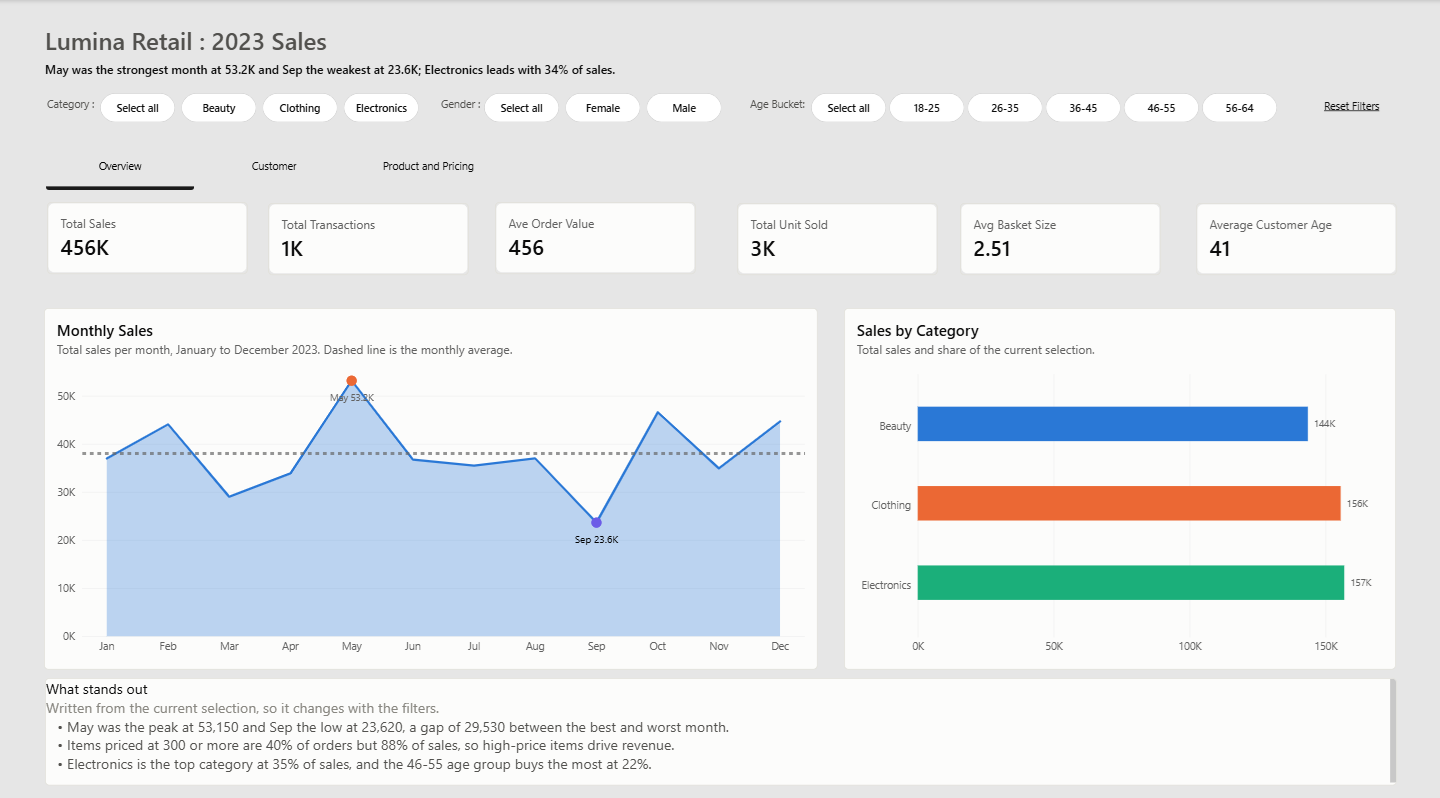

Layout of this report page (visuals, bound fields, positions):
{"tool":"powerbi","page":{"name":"Overview","canvas":[1920,1080],"ordinal":0},"visuals":[{"type":"cardVisual","fields":{"Data":["retail_sales_dataset.Transactions"]},"box":[360,270,267.1,95.7],"z":0},{"type":"cardVisual","fields":{"Data":["retail_sales_dataset.Ave Order Value"]},"box":[662.9,268.6,267.1,95.7],"z":1000},{"type":"cardVisual","fields":{"Data":["retail_sales_dataset.Avg Basket Size"]},"box":[1281.4,270,267.1,95.7],"z":2000},{"type":"cardVisual","fields":{"Data":["Avg(retail_sales_dataset.Age)"]},"box":[1594.3,270,267.1,95.7],"z":3000},{"type":"cardVisual","fields":{"Data":["Sum(retail_sales_dataset.Quantity)"]},"box":[984.3,270,267.1,95.7],"z":4000},{"type":"barChart","title":"Sales by Category","fields":{"Category":["retail_sales_dataset.Product Category"],"Y":["Sum(retail_sales_dataset.Total Amount)"]},"box":[1127.1,410,734.3,481.4],"z":5000},{"type":"areaChart","title":"Monthly Sales","fields":{"Category":["retail_sales_dataset.Month Name"],"Y":["retail_sales_dataset.Total Sales","retail_sales_dataset.Peak Point","retail_sales_dataset.Least Point"]},"box":[62.9,410,1028.6,481.4],"z":6000},{"type":"cardVisual","fields":{"Data":["retail_sales_dataset.Total Sales"]},"box":[67.1,268.6,267.1,95.7],"z":7000},{"type":"pageNavigator","box":[65.7,188.6,607.1,64.3],"z":8000},{"type":"textbox","box":[63.3,32.2,654.5,47.3],"z":9000},{"type":"advancedSlicerVisual","fields":{"Values":["retail_sales_dataset.Product Category"]},"box":[137,123.6,431,39],"z":10000},{"type":"textbox","box":[66,129.6,71,28],"z":11000},{"type":"advancedSlicerVisual","fields":{"Values":["retail_sales_dataset.Gender"]},"box":[648,123.6,336,39],"z":12000},{"type":"textbox","box":[591,129.6,71,28],"z":13000},{"type":"textbox","box":[1001,129.6,82,28],"z":14000},{"type":"advancedSlicerVisual","fields":{"Values":["retail_sales_dataset.Age Bucket"]},"box":[1083,123.6,690,39],"z":15000},{"type":"actionButton","box":[1731.4,100,140,50],"z":16000},{"type":"textbox","box":[63.3,901.7,1798.3,143.3],"z":17000},{"type":"cardVisual","fields":{"Data":["retail_sales_dataset.Subtitle"]},"box":[47.8,65.6,1571.7,43.3],"z":18000}]}

Visuals, with their boxes in screenshot pixels (x1, y1, x2, y2), scaled from the page's 1920x1080 canvas onto the 1440x798 screenshot:
cardVisual - retail_sales_dataset.Transactions: x1=270 y1=200 x2=470 y2=270
cardVisual - retail_sales_dataset.Ave Order Value: x1=497 y1=198 x2=698 y2=269
cardVisual - retail_sales_dataset.Avg Basket Size: x1=961 y1=200 x2=1161 y2=270
cardVisual - Avg(retail_sales_dataset.Age): x1=1196 y1=200 x2=1396 y2=270
cardVisual - Sum(retail_sales_dataset.Quantity): x1=738 y1=200 x2=939 y2=270
"Sales by Category" barChart: x1=845 y1=303 x2=1396 y2=659
"Monthly Sales" areaChart: x1=47 y1=303 x2=819 y2=659
cardVisual - retail_sales_dataset.Total Sales: x1=50 y1=198 x2=251 y2=269
pageNavigator: x1=49 y1=139 x2=505 y2=187
textbox: x1=47 y1=24 x2=538 y2=59
advancedSlicerVisual - retail_sales_dataset.Product Category: x1=103 y1=91 x2=426 y2=120
textbox: x1=50 y1=96 x2=103 y2=116
advancedSlicerVisual - retail_sales_dataset.Gender: x1=486 y1=91 x2=738 y2=120
textbox: x1=443 y1=96 x2=496 y2=116
textbox: x1=751 y1=96 x2=812 y2=116
advancedSlicerVisual - retail_sales_dataset.Age Bucket: x1=812 y1=91 x2=1330 y2=120
actionButton: x1=1299 y1=74 x2=1404 y2=111
textbox: x1=47 y1=666 x2=1396 y2=772
cardVisual - retail_sales_dataset.Subtitle: x1=36 y1=48 x2=1215 y2=80
